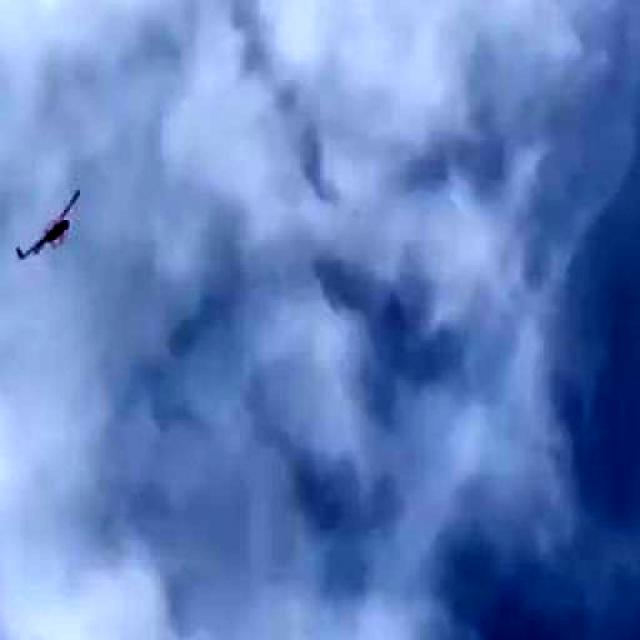drone: (0, 155, 108, 319)
